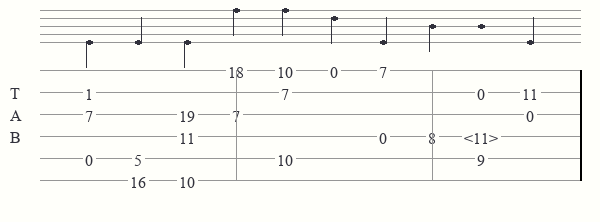0: (85, 151, 97, 166), (330, 63, 342, 78), (379, 129, 391, 144), (477, 85, 489, 100), (526, 107, 538, 122)
1: (85, 85, 97, 100)
10: (179, 173, 199, 188), (277, 151, 297, 166), (277, 63, 297, 78)
11: (179, 129, 199, 144), (522, 85, 542, 100)
16: (130, 173, 150, 188)
18: (228, 63, 248, 78)
19: (179, 107, 199, 122)
5: (134, 151, 146, 166)
7: (85, 107, 97, 122), (232, 107, 244, 122), (281, 85, 293, 100), (379, 63, 391, 78)
8: (428, 129, 440, 144)
9: (477, 151, 489, 166)
harmonic: (464, 129, 502, 144)
